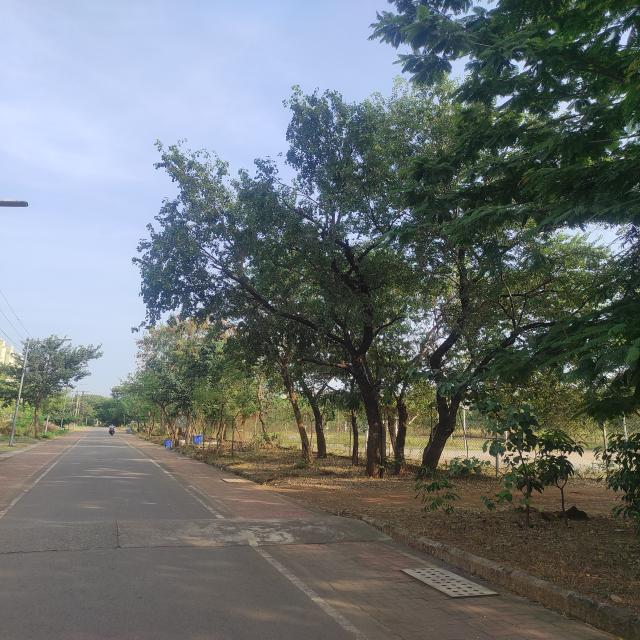Devakanchan tree: (147, 90, 473, 454)
